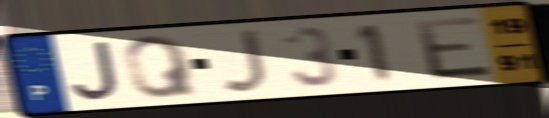1: (353, 22, 397, 83)
3: (279, 24, 340, 91)
E: (412, 13, 498, 81)
J: (219, 27, 271, 95), (68, 38, 122, 102)
Q: (121, 33, 202, 101)
